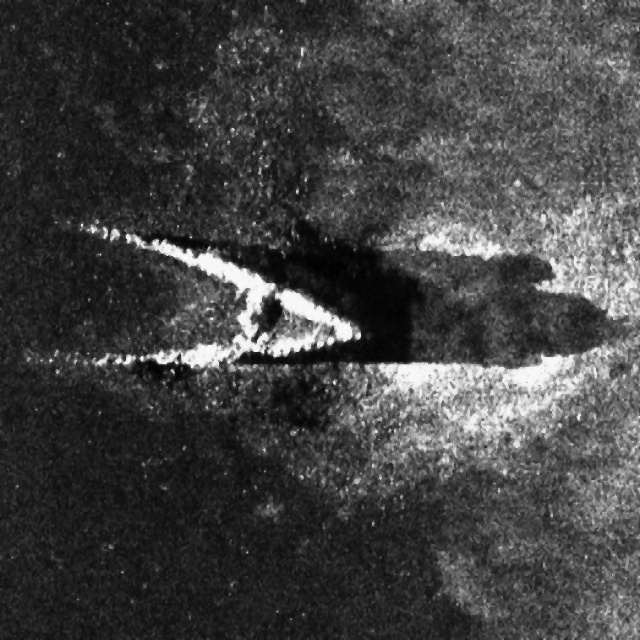Ship: (18, 207, 387, 396)
